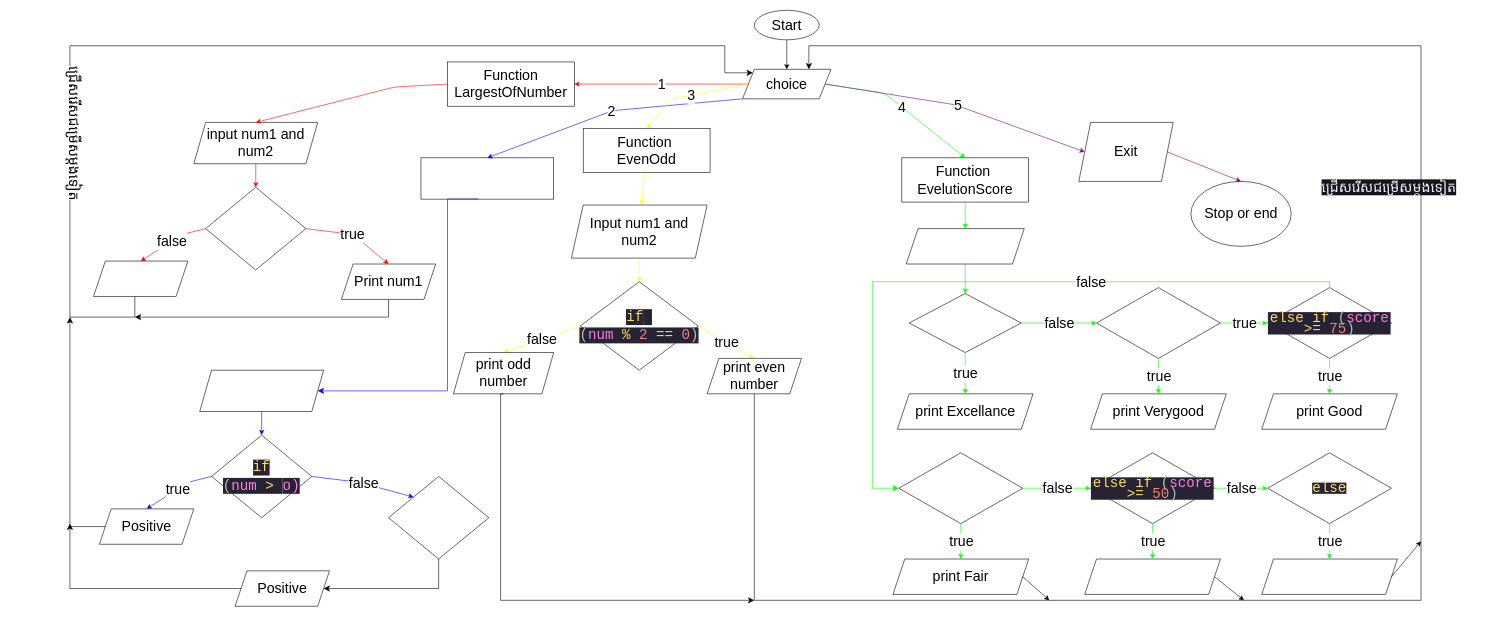
Some shapes in this 1507 by 617 pixel diagram are drawn without their labels. Each missing label, with the box of its shape:
else if ( num < ០): (388, 476, 489, 559)
else if ( score >= 60 ): (898, 452, 1023, 524)
else if ( score >= 85 ): (1096, 287, 1220, 358)
Function PositiveNagative: (420, 157, 554, 199)
if ( num1 > num2 ): (205, 187, 306, 270)
if ( score >= 95 ): (909, 293, 1021, 353)
input num: (199, 370, 324, 412)
Input score: (906, 228, 1024, 264)
print Failed: (1261, 558, 1397, 594)
Print num2: (93, 260, 188, 296)
print Pass: (1084, 558, 1220, 594)
